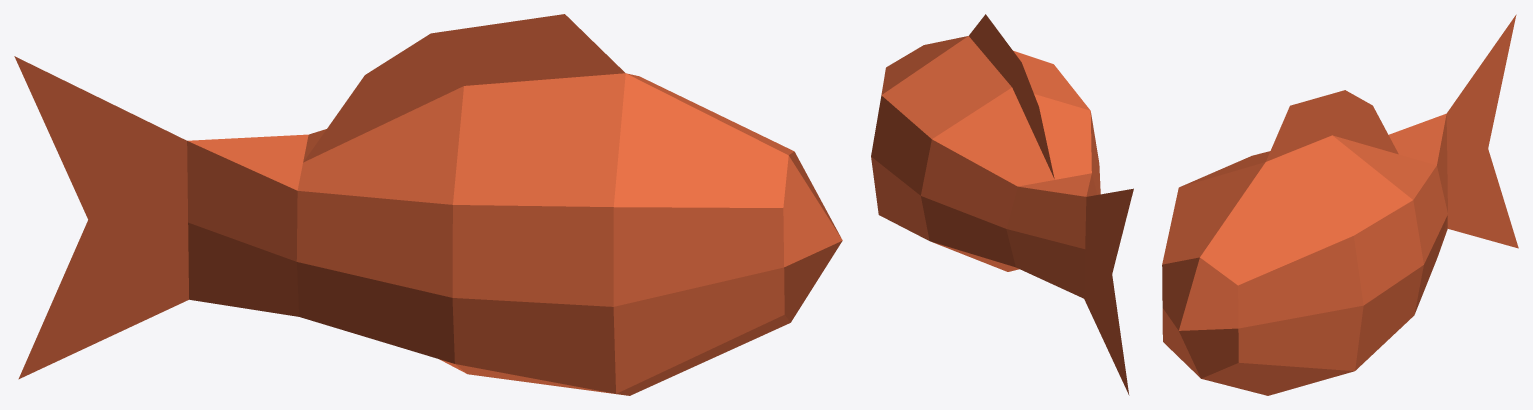
File: Fish.fbx
The picture shows the model from 3 angles, left to right: view 1: azimuth 30°, elevation 25°; view 2: azimuth 150°, elevation 25°; view 3: azimuth 270°, elevation 25°; orthographic projection. The views are drawn at different scales.
Parts seen in each view (by area): view 1: Goldfish?.001; view 2: Goldfish?.001; view 3: Goldfish?.001.
Part boxes in pixels (box(x1,y1,x2,y2)): Goldfish?.001: box(14, 14, 842, 395); Goldfish?.001: box(871, 14, 1133, 395); Goldfish?.001: box(1162, 14, 1518, 395).
Bounding box in the file's own units: 49.95 × 36.56 × 31.36.
